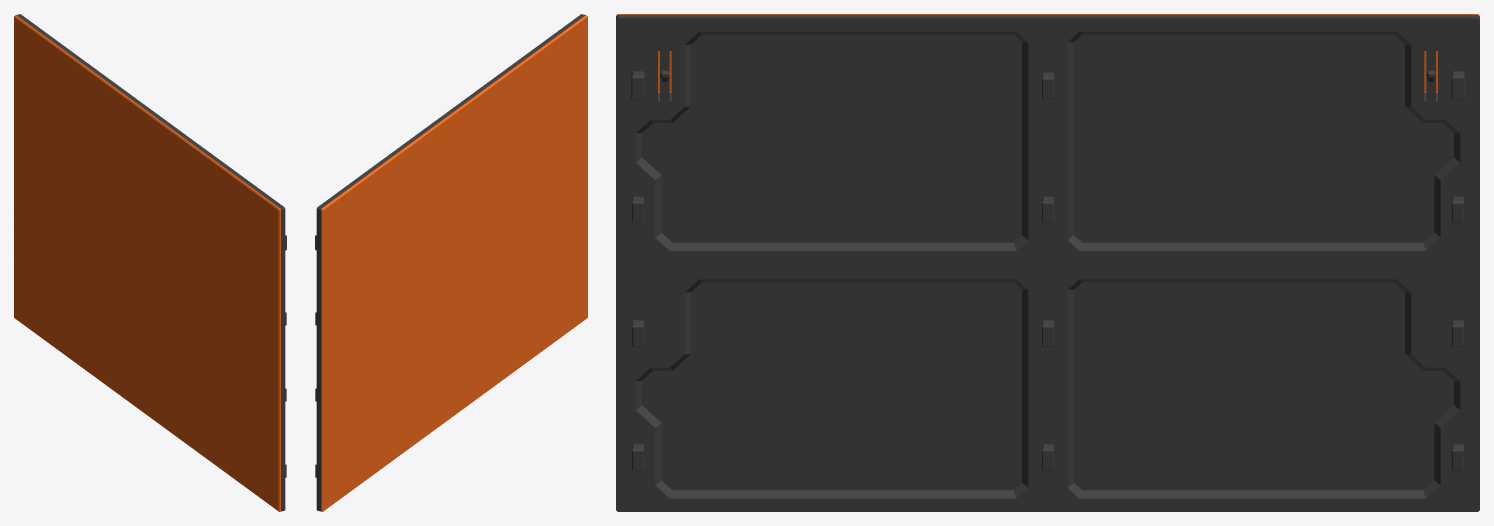
The model's file is SideCover_185-2H.lib.glb.
3 renders of one model, left to right at view 1: azimuth 30°, elevation 25°; view 2: azimuth 150°, elevation 25°; view 3: azimuth 270°, elevation 25°, orthographic. The views are drawn at different scales.
Parts seen in each view (by area): view 1: SideCover_185-2H; view 2: SideCover_185-2H; view 3: SideCover_185-2H.
Boxes of the visible parts, left/top/right/bottom form: SideCover_185-2H: left=14, top=14, right=286, bottom=511; SideCover_185-2H: left=315, top=14, right=587, bottom=511; SideCover_185-2H: left=616, top=14, right=1479, bottom=511.
Size of the model in its own units: 5.06 by 112 by 177.
